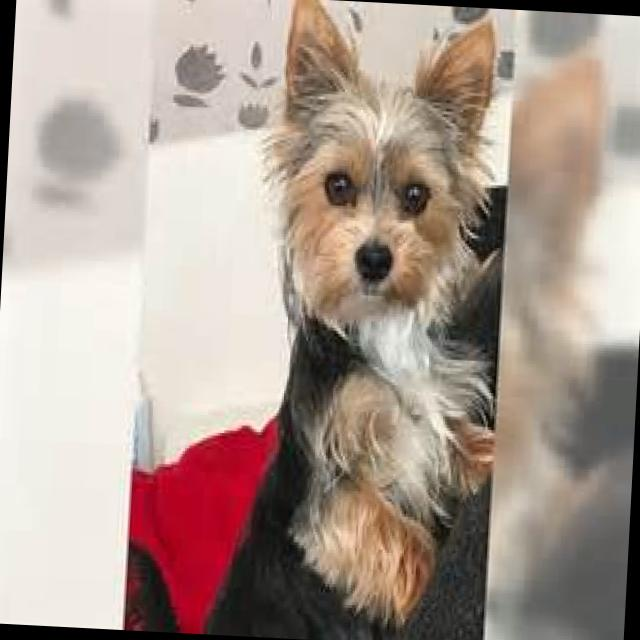animal: (254, 0, 519, 595)
